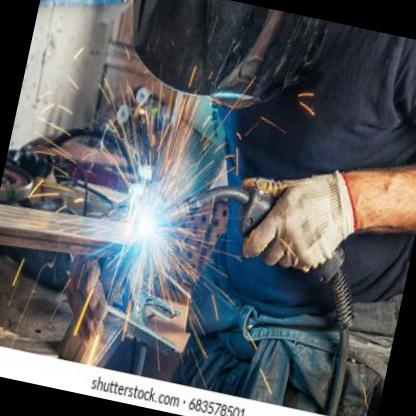Gloves: (224, 149, 364, 281), (53, 246, 119, 352)
